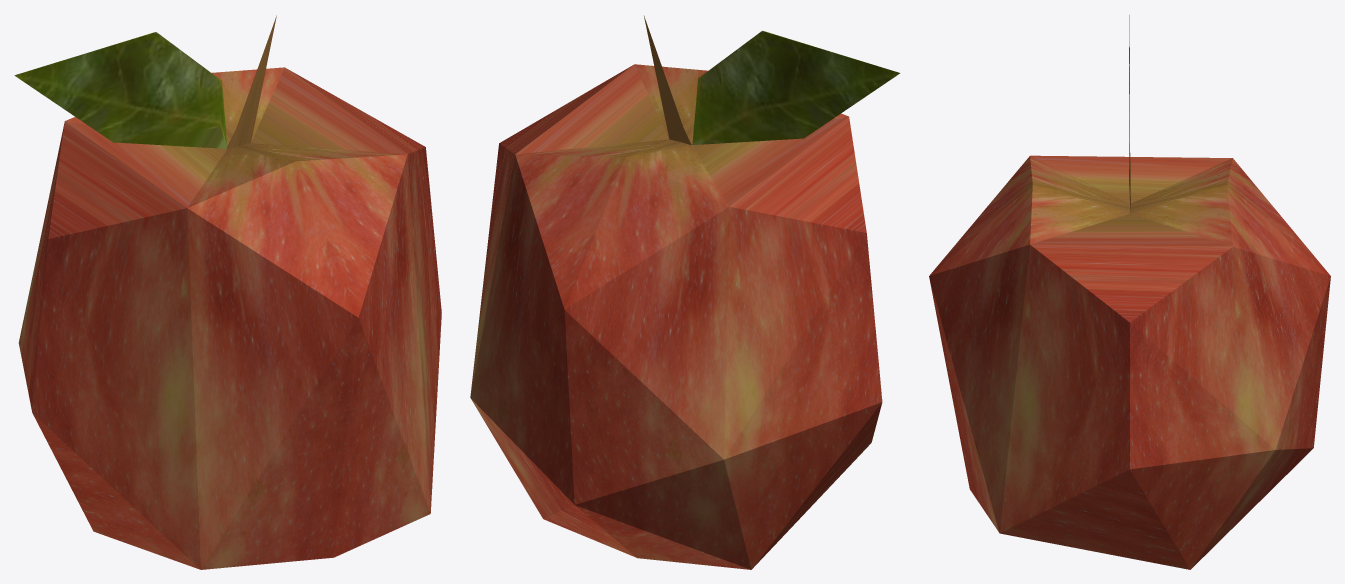
Rendered from Apple.fbx.
3 renders of one model, left to right at view 1: azimuth 30°, elevation 25°; view 2: azimuth 150°, elevation 25°; view 3: azimuth 270°, elevation 25°, orthographic. The views are drawn at different scales.
Visible parts, largest first — view 1: AppleMesh; view 2: AppleMesh; view 3: AppleMesh.
Part boxes in pixels (x1,y1,x2,y2): AppleMesh: [14, 15, 441, 569]; AppleMesh: [470, 16, 900, 569]; AppleMesh: [929, 15, 1330, 569].
Bounding box in the file's own units: 404 × 475 × 398.
2 materials, 2 textured.
